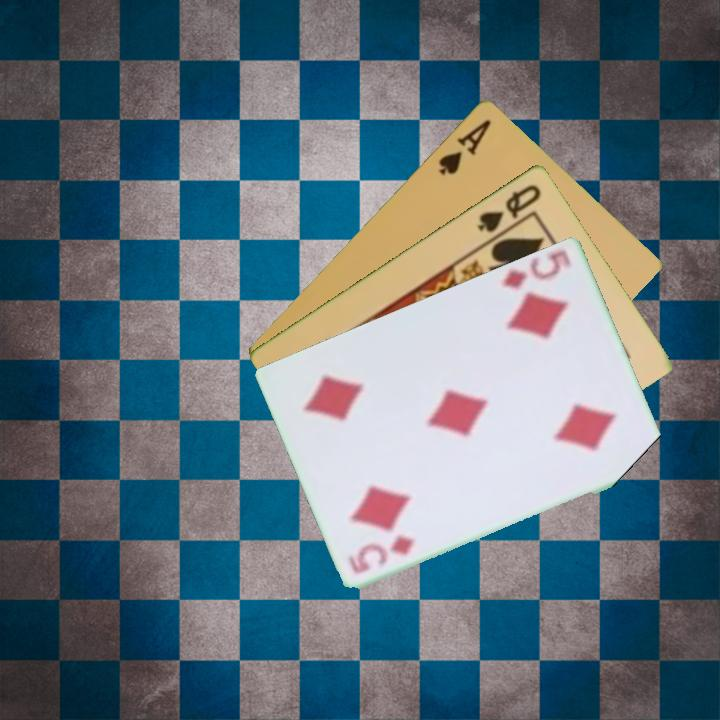5d: (498, 245, 571, 292), (346, 532, 417, 577)
As: (434, 115, 494, 178)
Qs: (473, 180, 544, 235)
